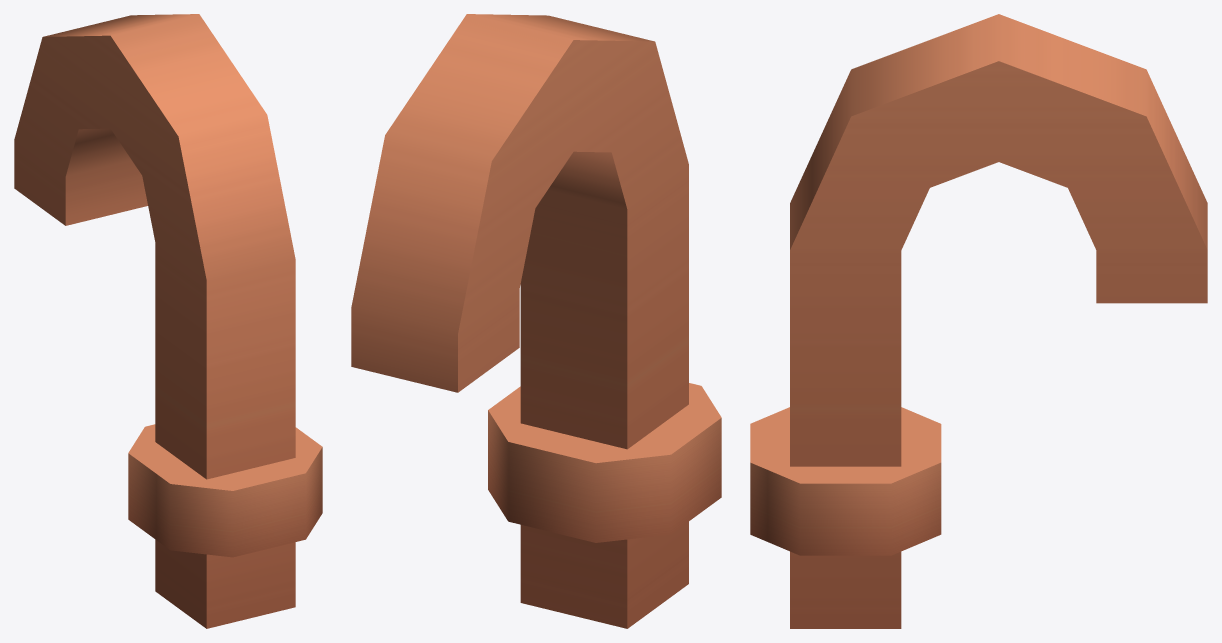
File: aid-cane.fbx
The picture shows the model from 3 angles, left to right: view 1: azimuth 30°, elevation 25°; view 2: azimuth 150°, elevation 25°; view 3: azimuth 270°, elevation 25°; orthographic projection. The views are drawn at different scales.
Visible parts, largest first — view 1: aid-cane; view 2: aid-cane; view 3: aid-cane.
Boxes of the visible parts, box(x1,y1,x2,y2) form: aid-cane: box(14, 14, 322, 628); aid-cane: box(351, 14, 721, 628); aid-cane: box(750, 14, 1207, 628).
Bounding box in the file's own units: 9.6 × 31.5 × 23.
